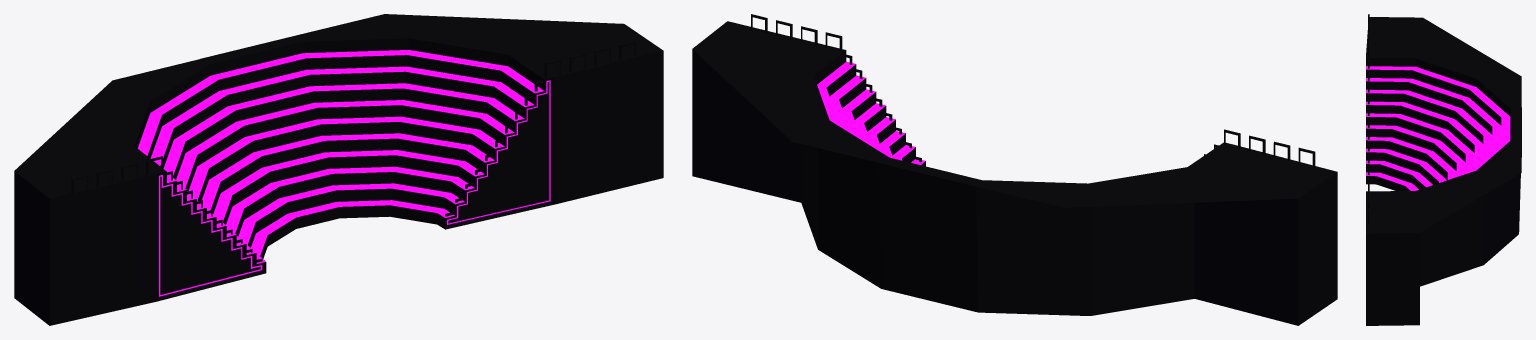
File: theatreSeats.gltf
The picture shows the model from 3 angles, left to right: view 1: azimuth 30°, elevation 25°; view 2: azimuth 150°, elevation 25°; view 3: azimuth 270°, elevation 25°; orthographic projection. The views are drawn at different scales.
Parts seen in each view (by area): view 1: seating; view 2: seating; view 3: seating.
Part boxes in pixels (box(x1,y1,x2,y2)): seating: box(14, 14, 663, 325); seating: box(692, 14, 1337, 325); seating: box(1366, 14, 1521, 325).
Size of what is drawn, in the model's own units: 79.11 by 17.56 by 24.05.
